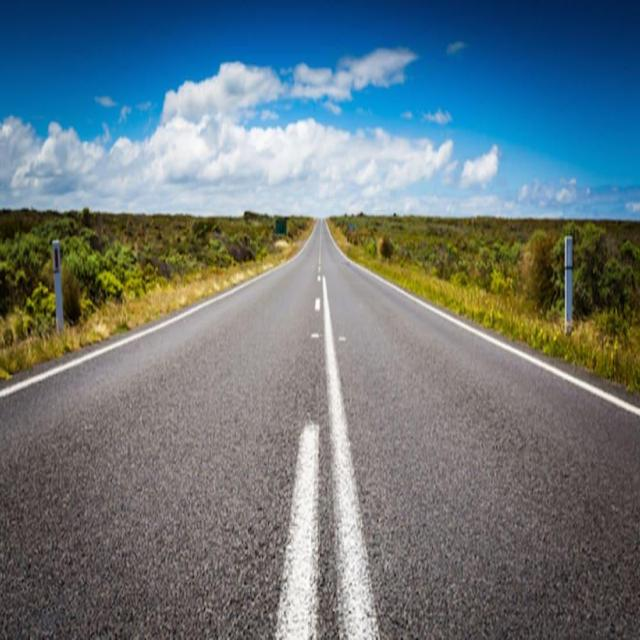cloud: (154, 53, 370, 194)
